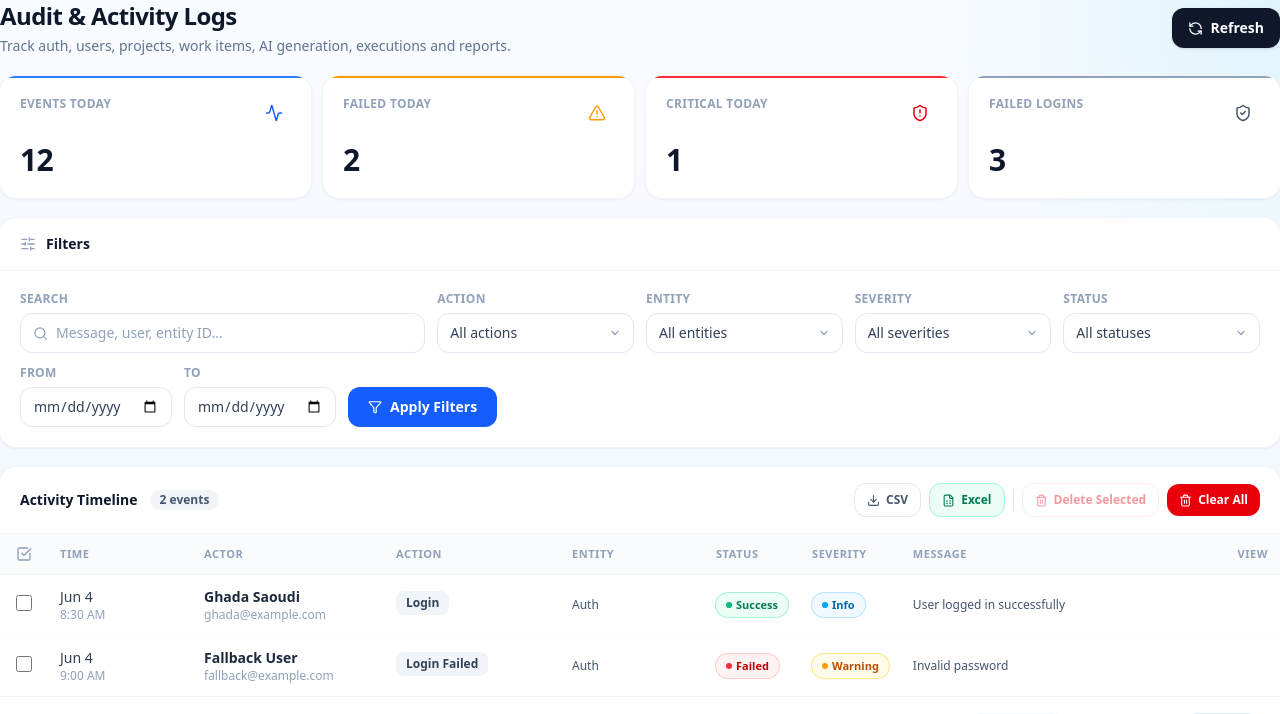
Test case: AdminAuditLogsPage › selects a log and deletes selected logs
Expected: the text "User logged in successfully" is shown, 913,596 -> 1065,613
Click the checkbox next to "8:30 AM" at (24, 602), box 16,594 -> 32,610
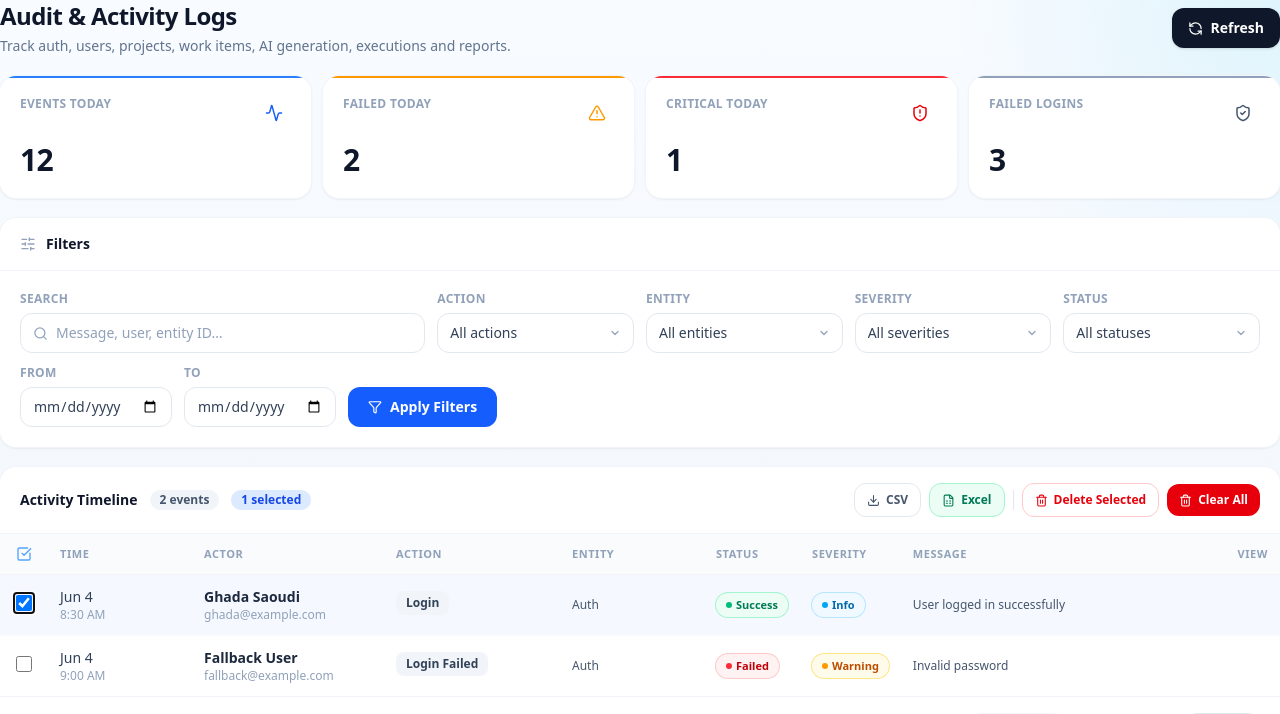
Expected: the text "1 selected" is shown, 231,490 -> 311,510
Click the button "Delete Selected" at (1090, 500), box 1022,483 -> 1159,517
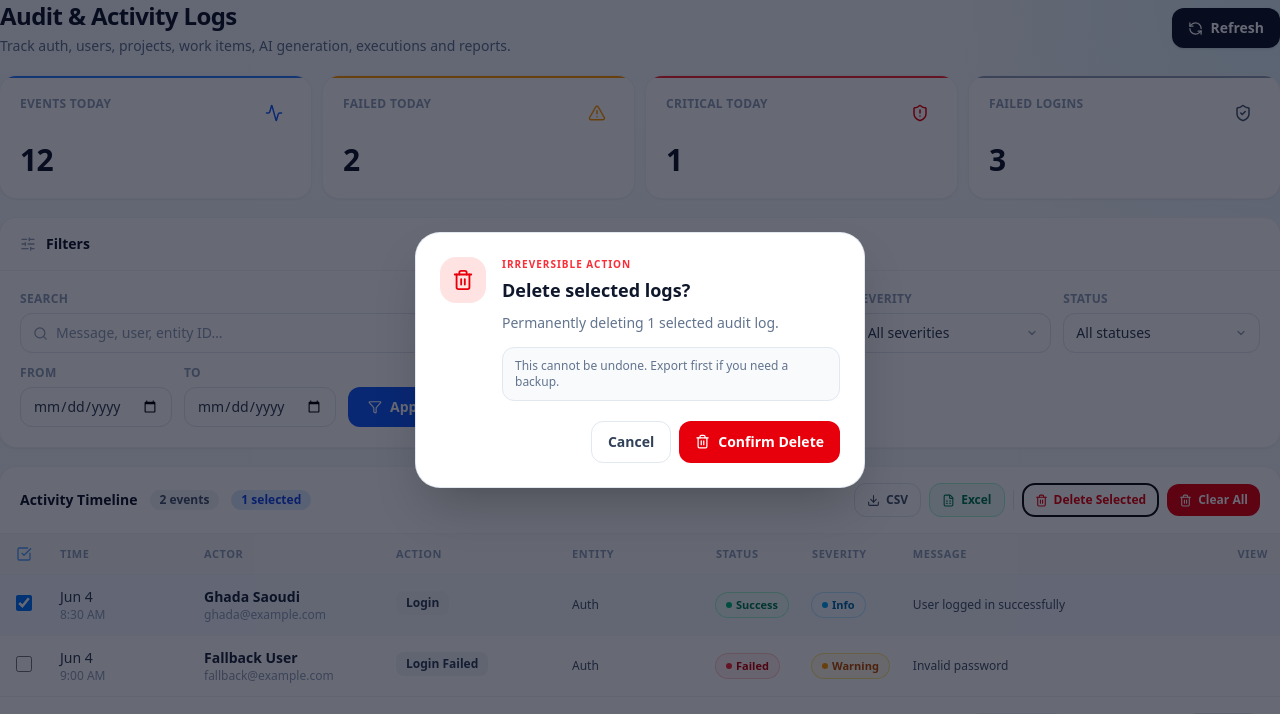
Expected: the heading "Delete selected logs?" is shown, 502,278 -> 690,302
Click the button "Confirm Delete" at (760, 442), box 679,421 -> 840,463
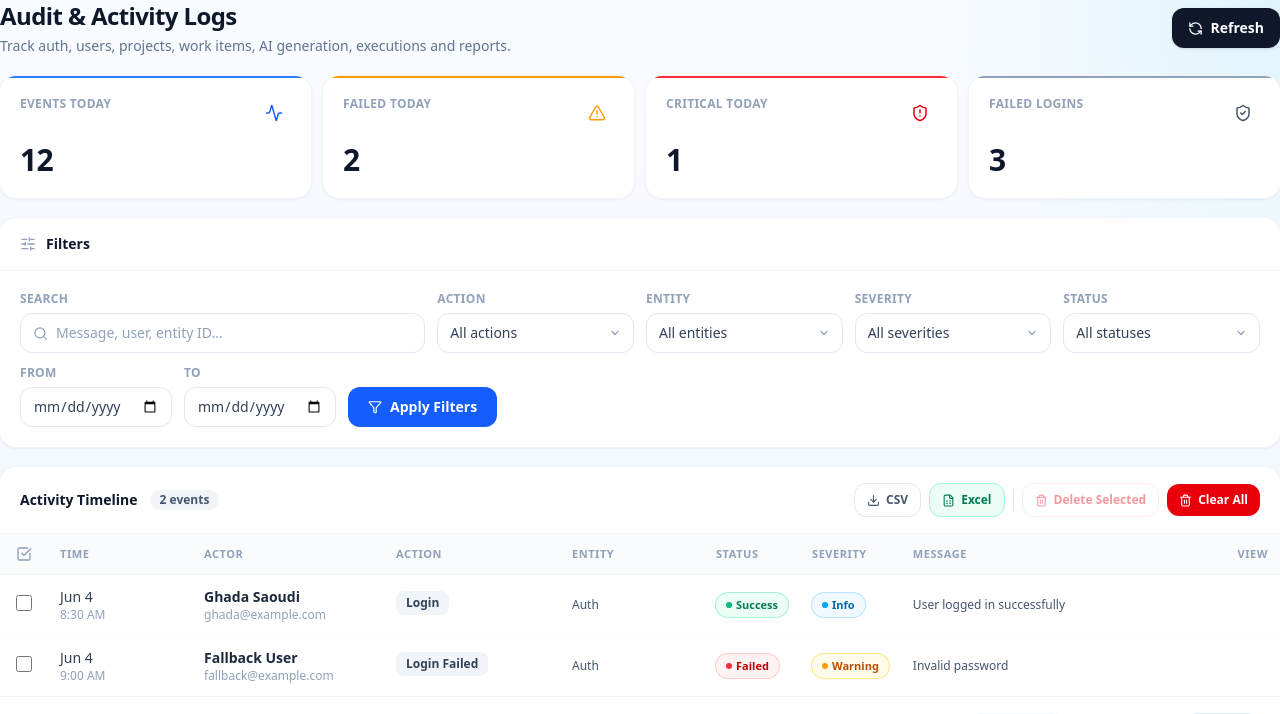
Expected: the heading "Delete selected logs?" is gone
